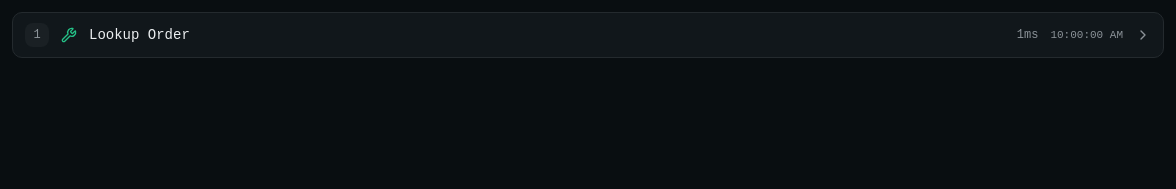
Test: evaluation panels › exposes tool-call disclosure state to assistive technology
Click the button "1 Lookup Order 1ms 10:00:00 AM".
click(139, 35)  # box top-left (13, 13), bottom-right (1163, 57)
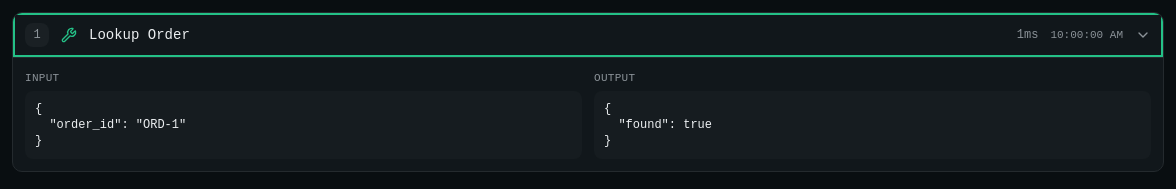
Now the button "1 Lookup Order 1ms 10:00:00 AM" is expanded, box top-left (13, 13), bottom-right (1163, 57)
Now the text "{ \"order_id\": \"ORD-1\" }" is shown, box top-left (25, 90), bottom-right (582, 158)
